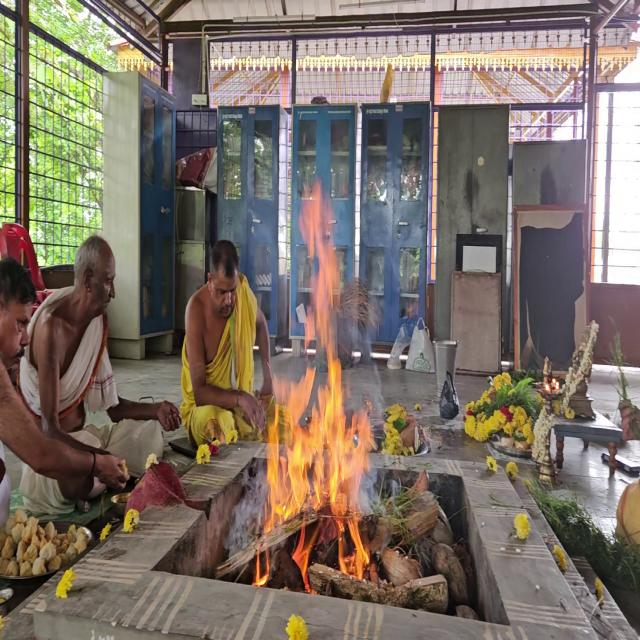fire: (255, 174, 377, 595)
